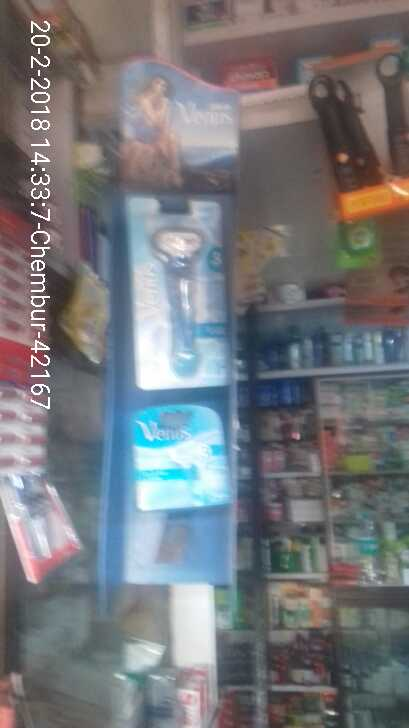venus: (131, 199, 226, 383), (132, 410, 242, 524)
